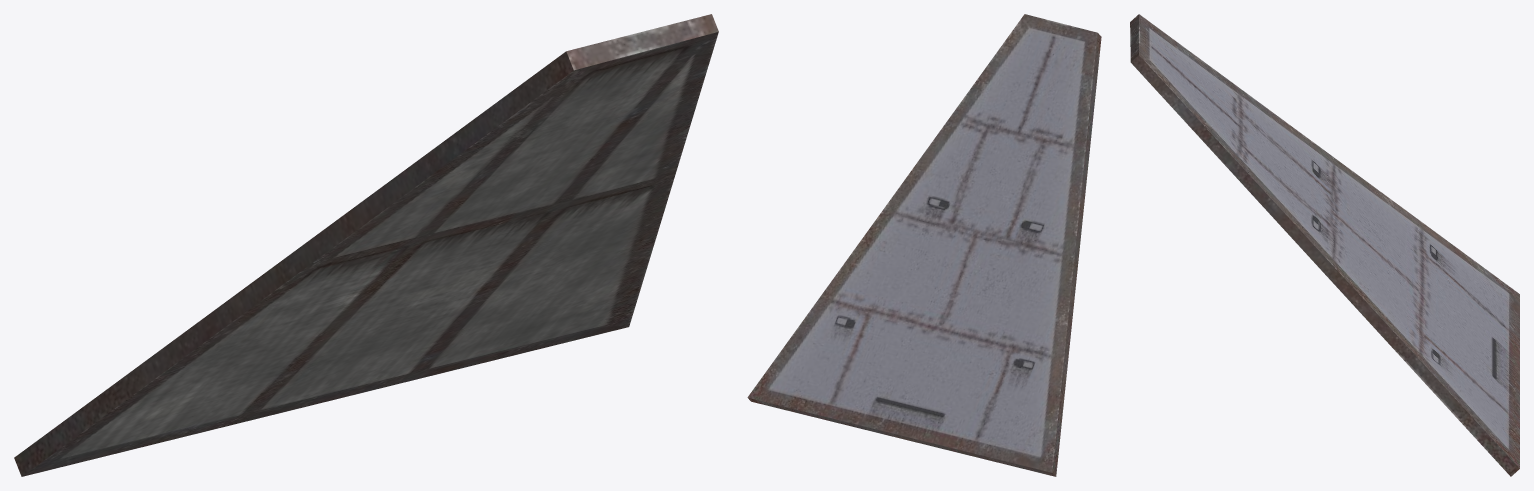
The model's file is armored_roof_triangle_textured.glb.
3 renders of one model, left to right at view 1: azimuth 30°, elevation 25°; view 2: azimuth 150°, elevation 25°; view 3: azimuth 270°, elevation 25°, orthographic. The views are drawn at different scales.
Visible parts, largest first — view 1: Plane; view 2: Plane; view 3: Plane.
Boxes of the visible parts, x1,y1,x2,y2 form: Plane: [14, 14, 718, 476]; Plane: [747, 14, 1101, 476]; Plane: [1130, 14, 1519, 476].
Bounding box in the file's own units: 2.23 × 2.11 × 2.09.
Materials: 1 (1 with a texture image).
